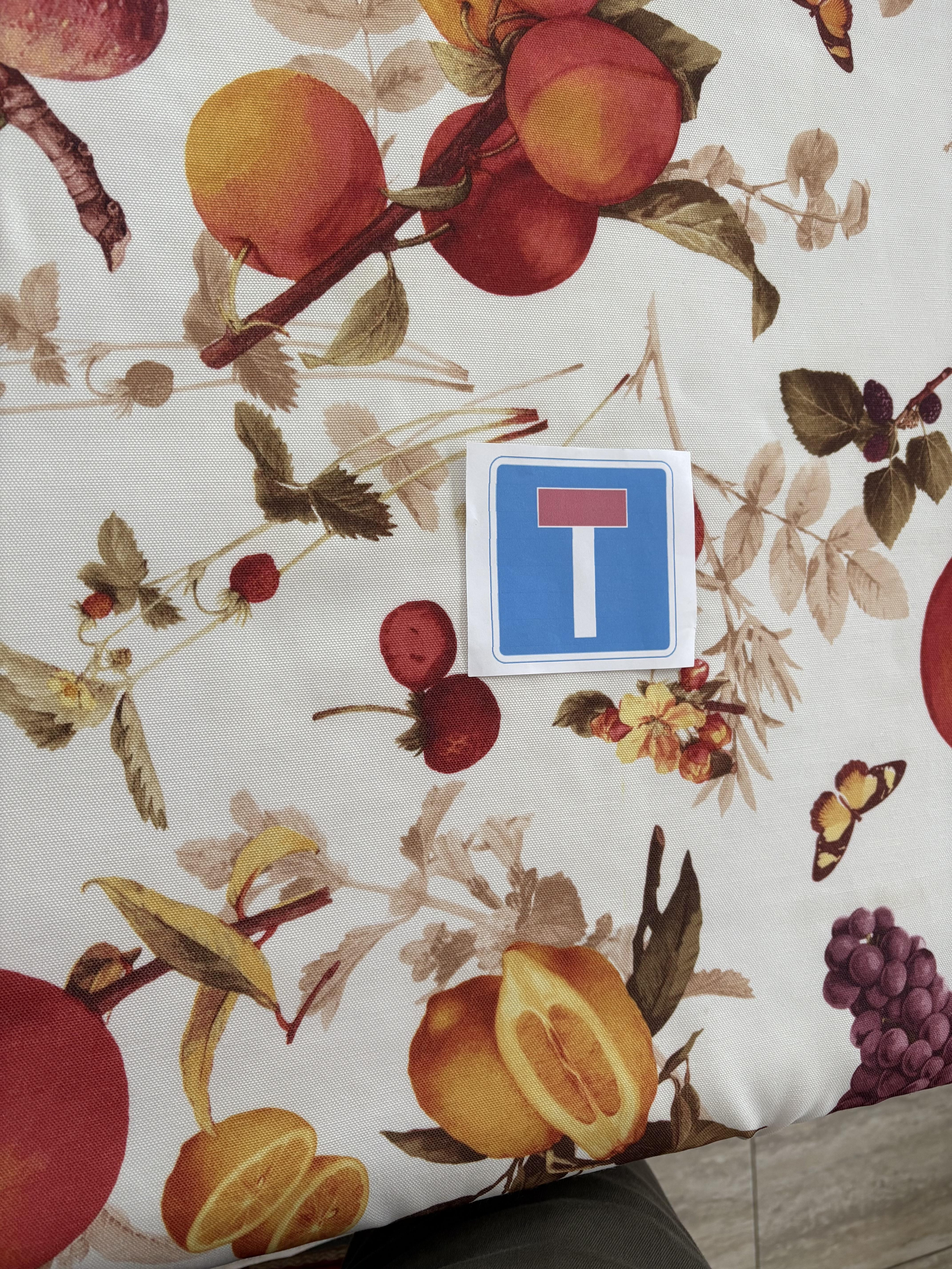Dead End: (469, 440, 691, 672)
